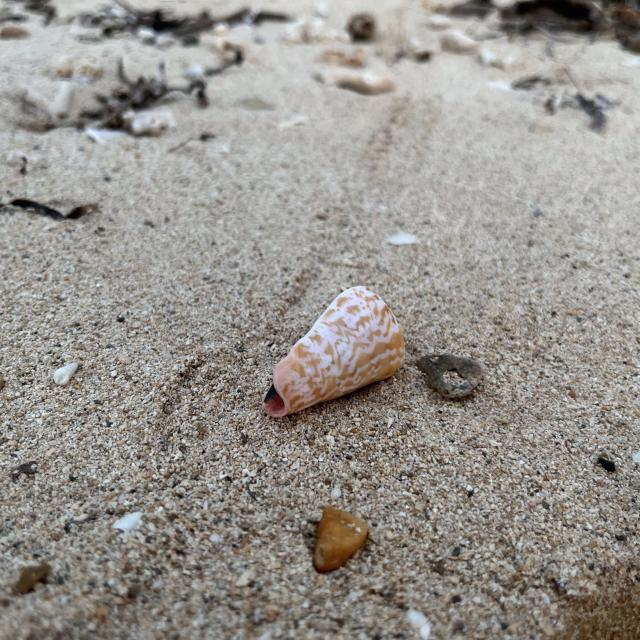seaweed: (52, 46, 234, 152), (58, 0, 295, 49)
shell: (232, 281, 414, 434)
